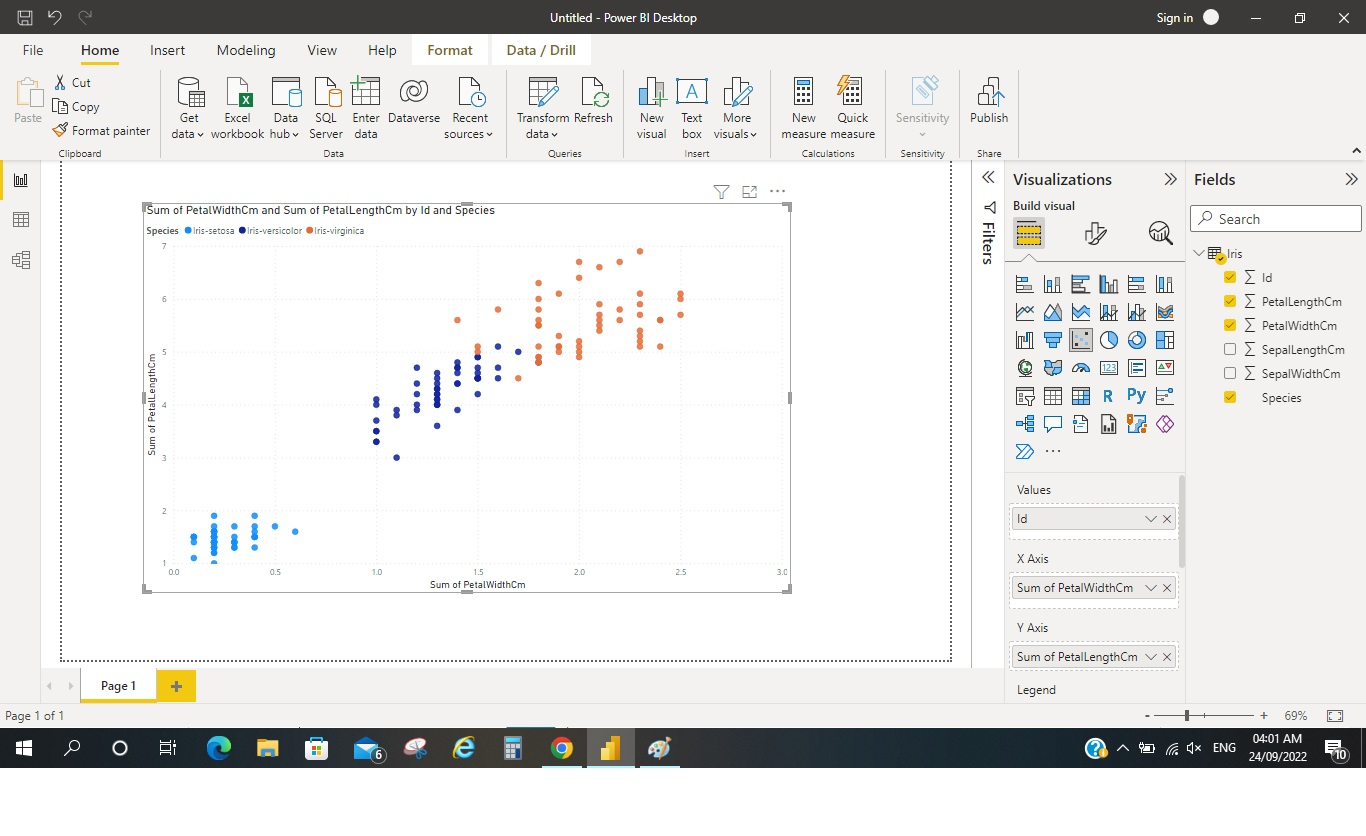

What the dashboard file says about the page in this screenshot:
{"tool":"powerbi","page":{"name":"Page 1","canvas":[1280,720],"ordinal":0},"visuals":[{"type":"scatterChart","fields":{"X":["Sum(Iris.PetalWidthCm)"],"Y":["Sum(Iris.PetalLengthCm)"],"Series":["Iris.Species"],"Category":["Iris.Id"]},"box":[110.9,159.6,934,561],"z":0}]}

Visuals, with their boxes on the page's 1280x720 design canvas (x1, y1, x2, y2). These are canvas units, not pixel positions in the 1366x836 screenshot, which may show the page scaled, cropped or inside an application window:
scatterChart - Sum(Iris.PetalWidthCm) x Sum(Iris.PetalLengthCm): (111,160,1045,721)
